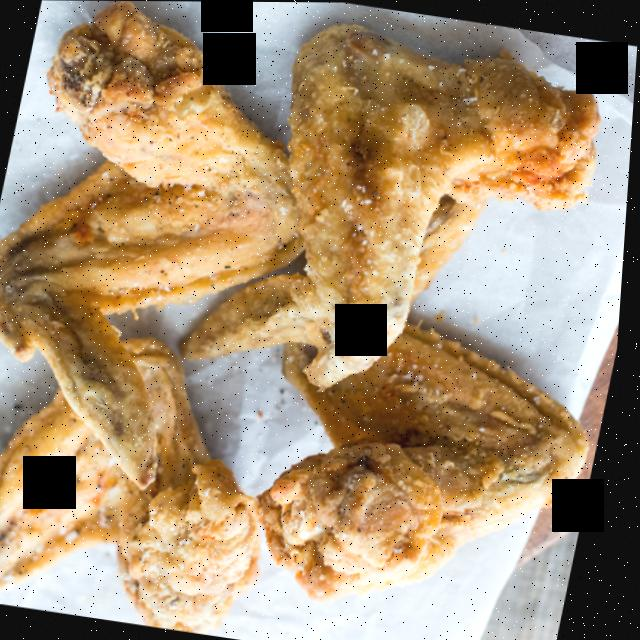Frango: (137, 271, 626, 637), (0, 0, 351, 498), (224, 14, 620, 424), (0, 316, 307, 640)
